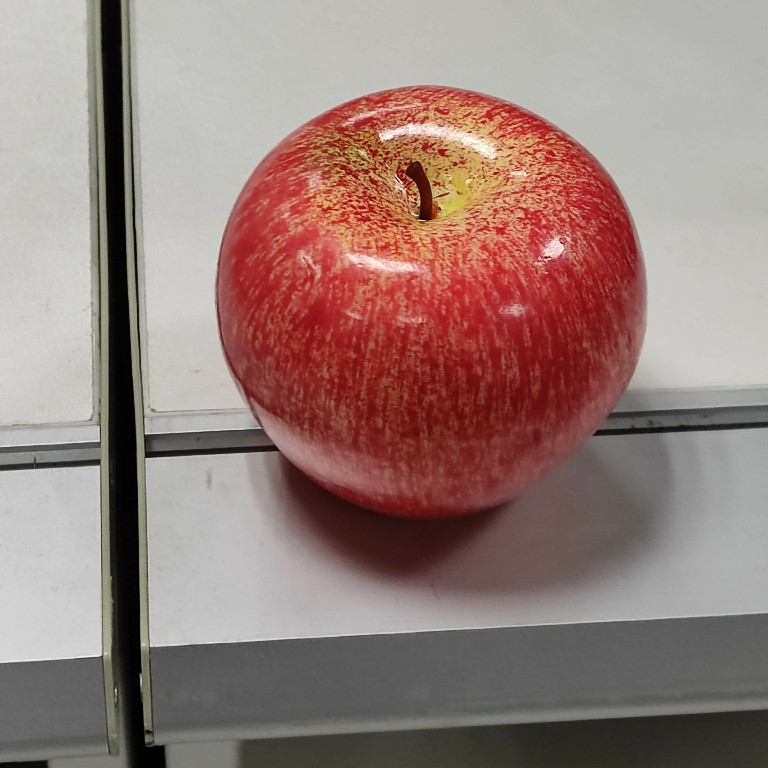fruit_apple: (207, 77, 655, 530)
